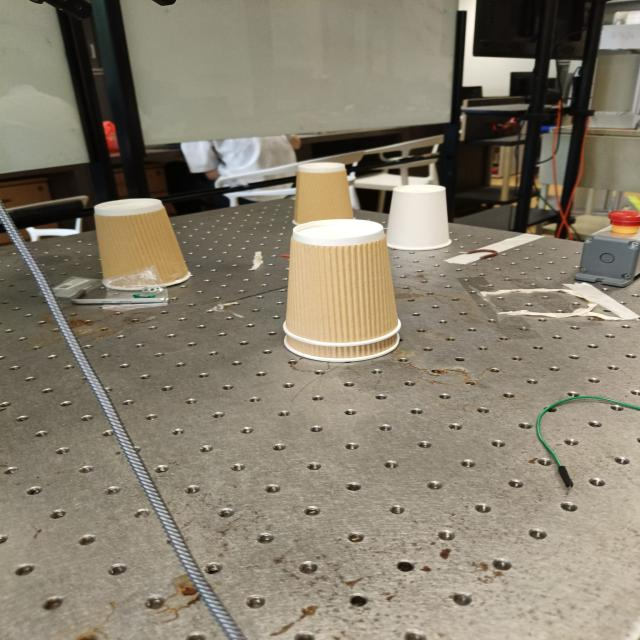Browncup: (285, 218, 398, 343), (94, 199, 190, 291), (294, 160, 352, 224), (284, 332, 399, 363)
Whitecup: (387, 185, 451, 251)
